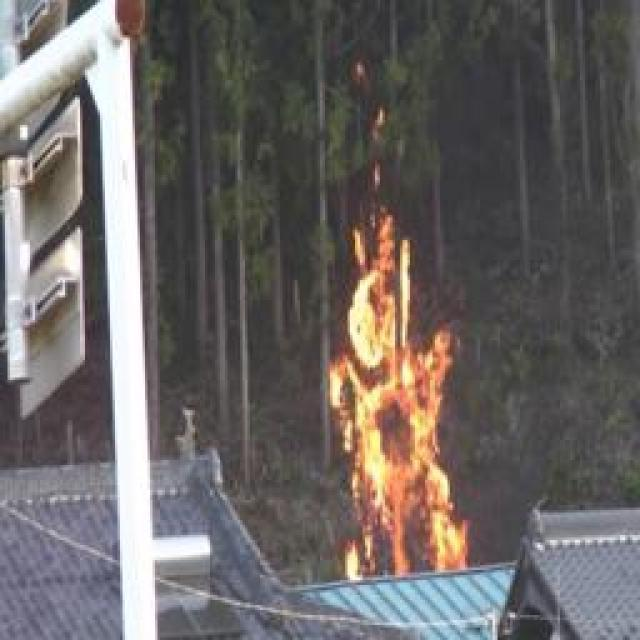Fire: (327, 221, 461, 585)
